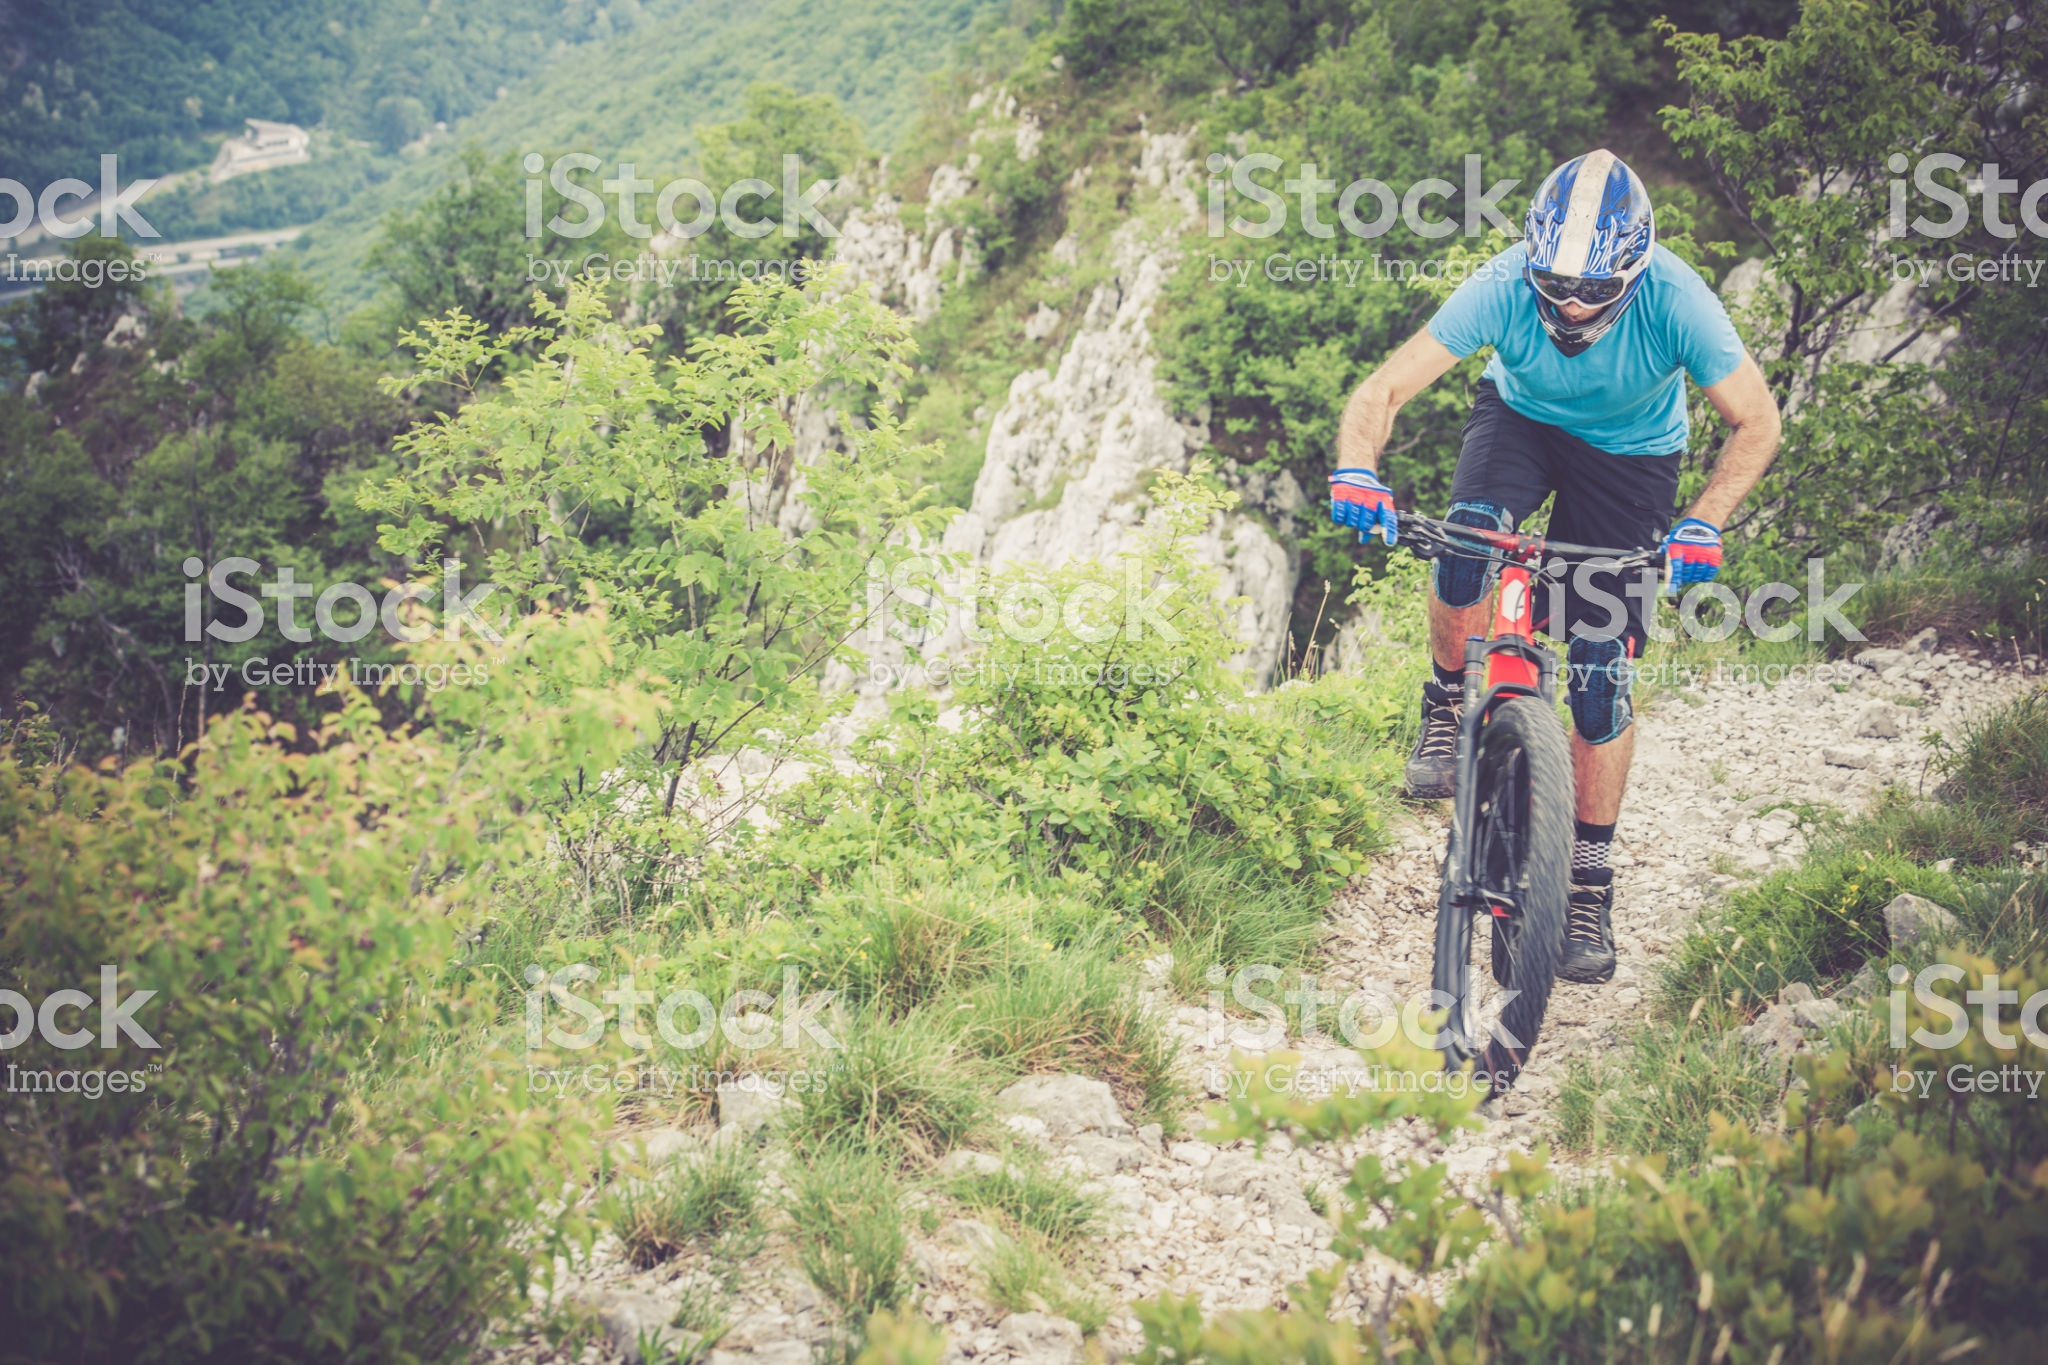helmet: (1517, 129, 1661, 369)
